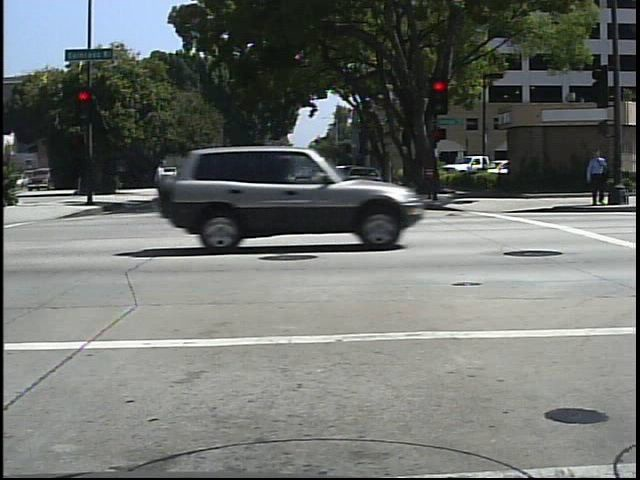person: (143, 155, 177, 219), (585, 143, 609, 209)
